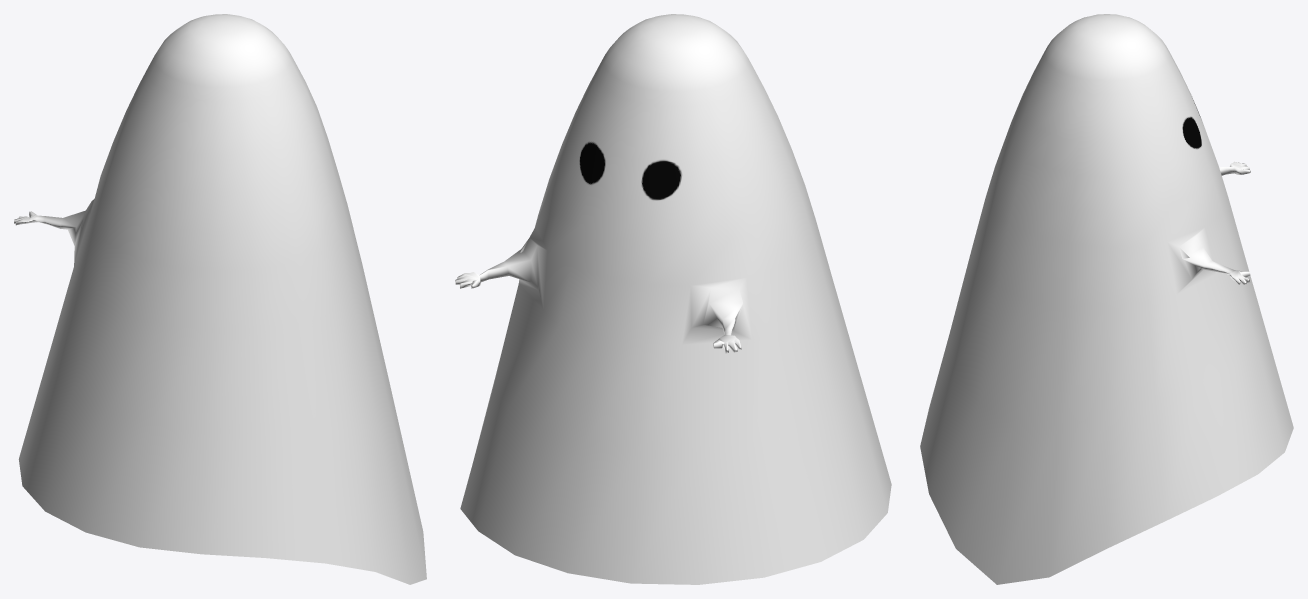
File: ghostttttttmove.fbx
3 renders of one model, left to right at view 1: azimuth 30°, elevation 25°; view 2: azimuth 150°, elevation 25°; view 3: azimuth 270°, elevation 25°, orthographic. The views are drawn at different scales.
Visible parts, largest first — view 1: pSphere4; view 2: pSphere4; view 3: pSphere4.
Boxes of the visible parts, x1=… form: pSphere4: x1=14, y1=14, x2=426, y2=584; pSphere4: x1=455, y1=14, x2=891, y2=584; pSphere4: x1=920, y1=14, x2=1293, y2=584.
Bounding box in the file's own units: 39.37 × 57.95 × 39.32.
Materials: 1 (1 with a texture image).
